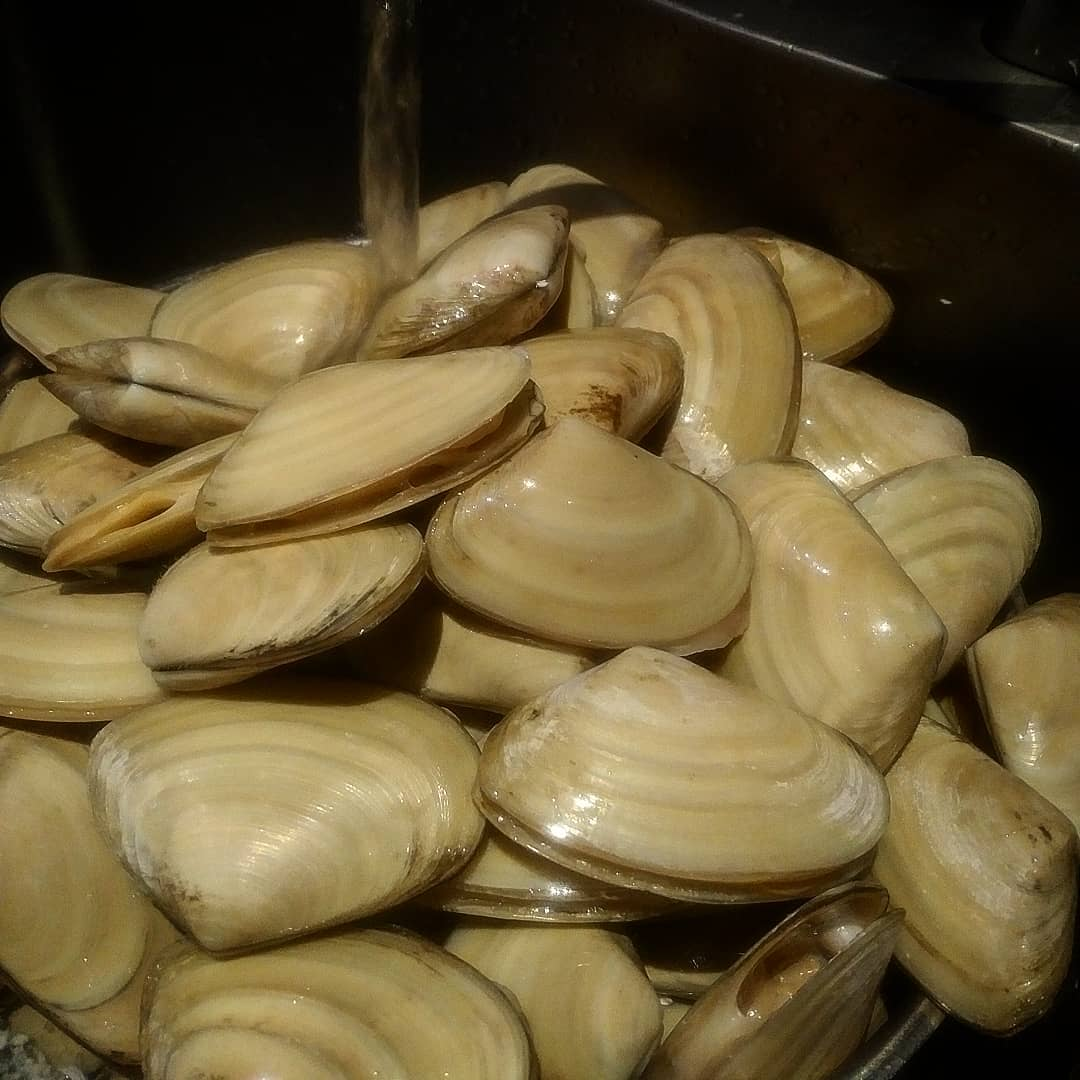tuatua: (83, 677, 490, 960), (467, 640, 888, 898), (421, 408, 760, 657), (718, 454, 949, 770), (193, 340, 543, 543), (869, 712, 1073, 1036), (132, 925, 535, 1075), (635, 880, 915, 1080), (1, 715, 153, 1064), (139, 522, 431, 692), (622, 222, 804, 488), (840, 443, 1046, 667), (449, 905, 674, 1078), (152, 233, 388, 391), (363, 201, 583, 354), (39, 333, 284, 444), (964, 588, 1080, 822), (788, 349, 974, 488), (759, 219, 900, 363), (525, 325, 686, 447), (5, 250, 163, 356)
